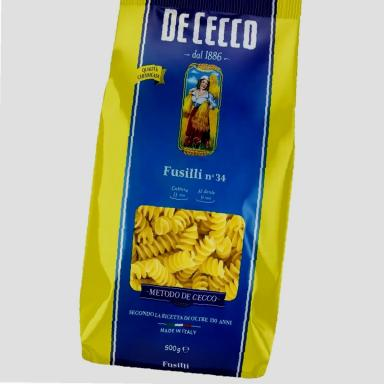pasta package: (80, 0, 300, 377)
